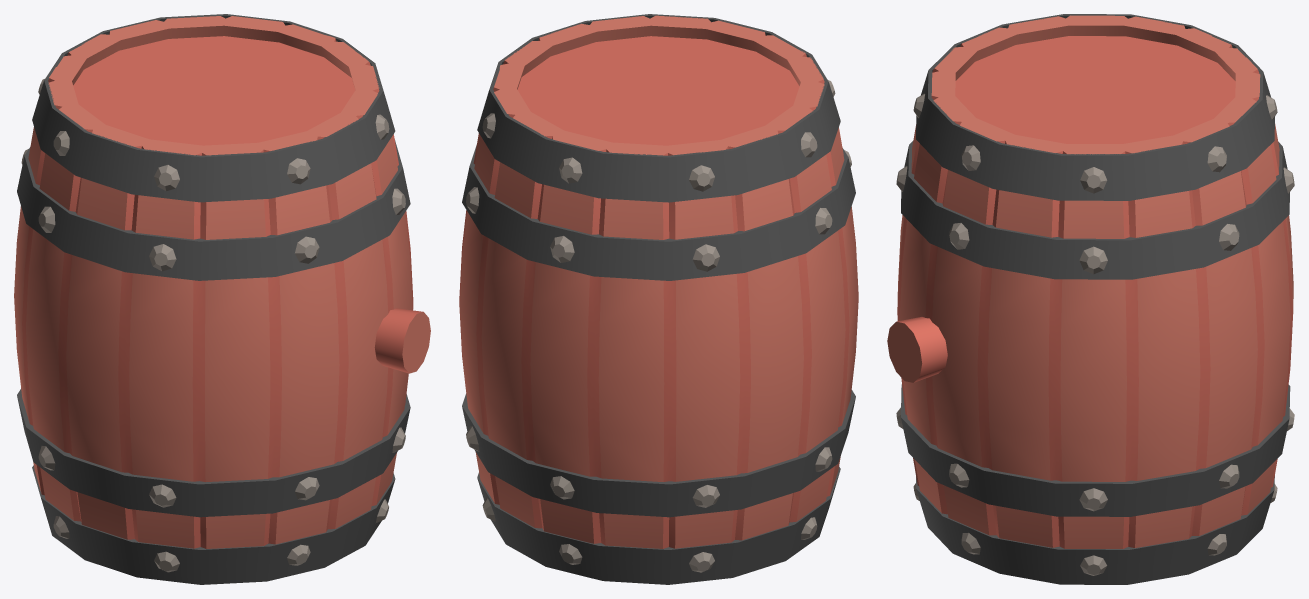
File: barrel.fbx
3 views of the same model, side by side, from view 1: azimuth 30°, elevation 25°; view 2: azimuth 150°, elevation 25°; view 3: azimuth 270°, elevation 25° (orthographic).
Visible parts, largest first — view 1: Item19; view 2: Item19; view 3: Item19.
Part boxes in pixels (x1=…): Item19: x1=14, y1=14, x2=430, y2=584; Item19: x1=459, y1=14, x2=858, y2=584; Item19: x1=887, y1=14, x2=1294, y2=584.
Bounding box in the file's own units: 38.06 × 45.26 × 38.93.
